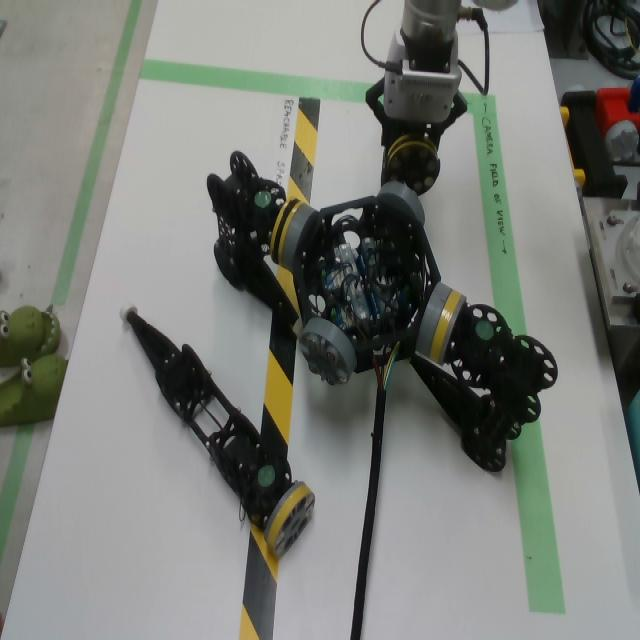body: (293, 196, 441, 375)
body_connector: (299, 317, 357, 387), (415, 283, 452, 357), (282, 204, 319, 273), (377, 181, 426, 227)
gripper: (365, 79, 468, 148)
leg: (119, 299, 316, 557), (408, 291, 557, 472), (206, 151, 303, 336), (381, 120, 440, 196)
leg_connector: (264, 481, 315, 559), (388, 135, 441, 196), (428, 291, 466, 365), (270, 196, 303, 267)
leg_marker: (258, 465, 275, 487), (475, 321, 494, 340), (255, 191, 271, 208)
